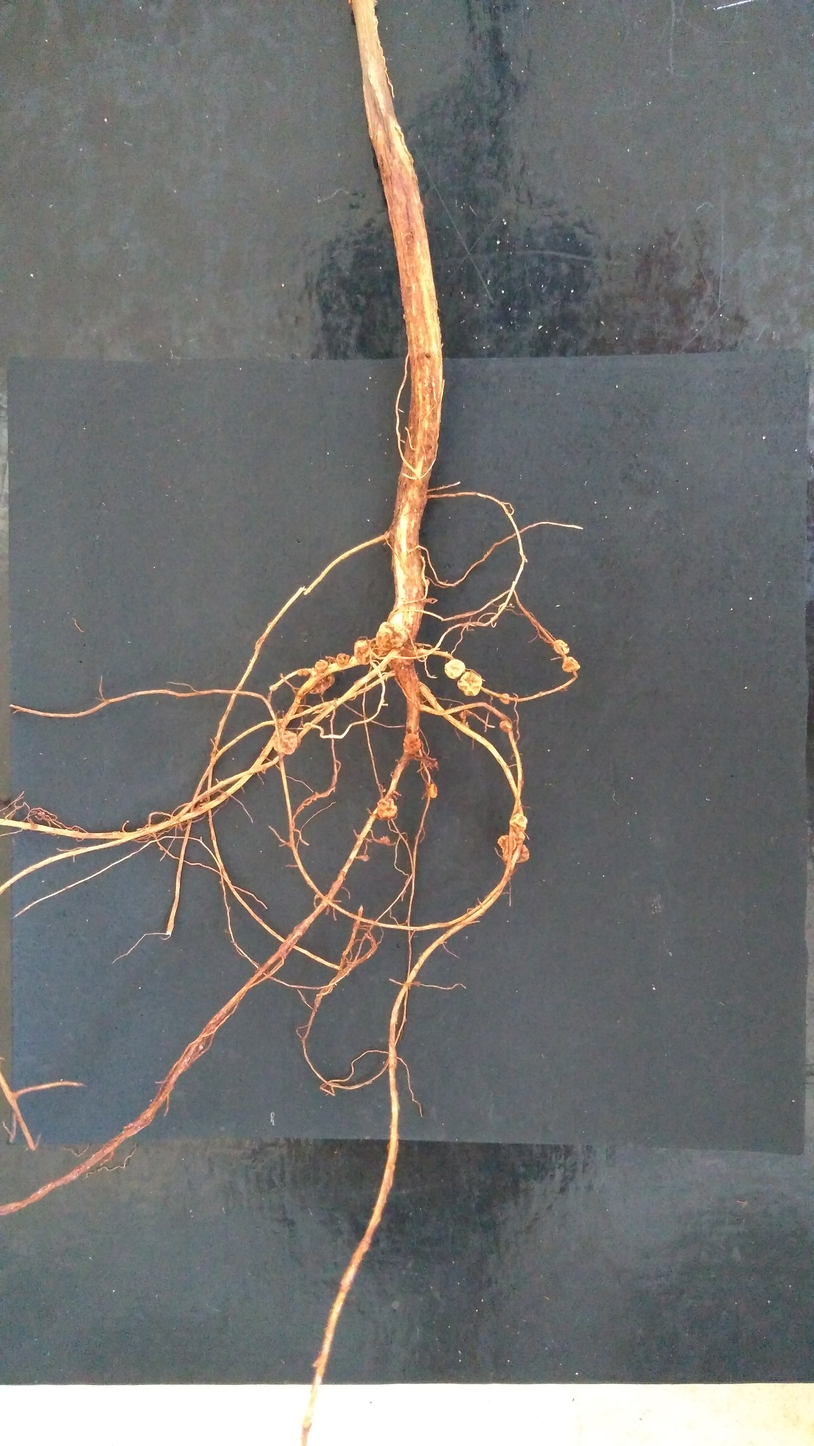nodule: (375, 621, 409, 652), (353, 639, 382, 666), (457, 671, 483, 696), (273, 730, 299, 755), (508, 812, 528, 842), (309, 673, 335, 694), (497, 834, 517, 860), (444, 658, 467, 679), (377, 797, 398, 819), (403, 733, 422, 756), (512, 843, 530, 863), (561, 656, 581, 673), (554, 639, 570, 655), (336, 653, 351, 666), (427, 783, 439, 799), (314, 659, 328, 672), (499, 719, 512, 732), (499, 692, 510, 705), (459, 709, 470, 719), (380, 835, 391, 844), (297, 669, 309, 676), (421, 578, 430, 587)
